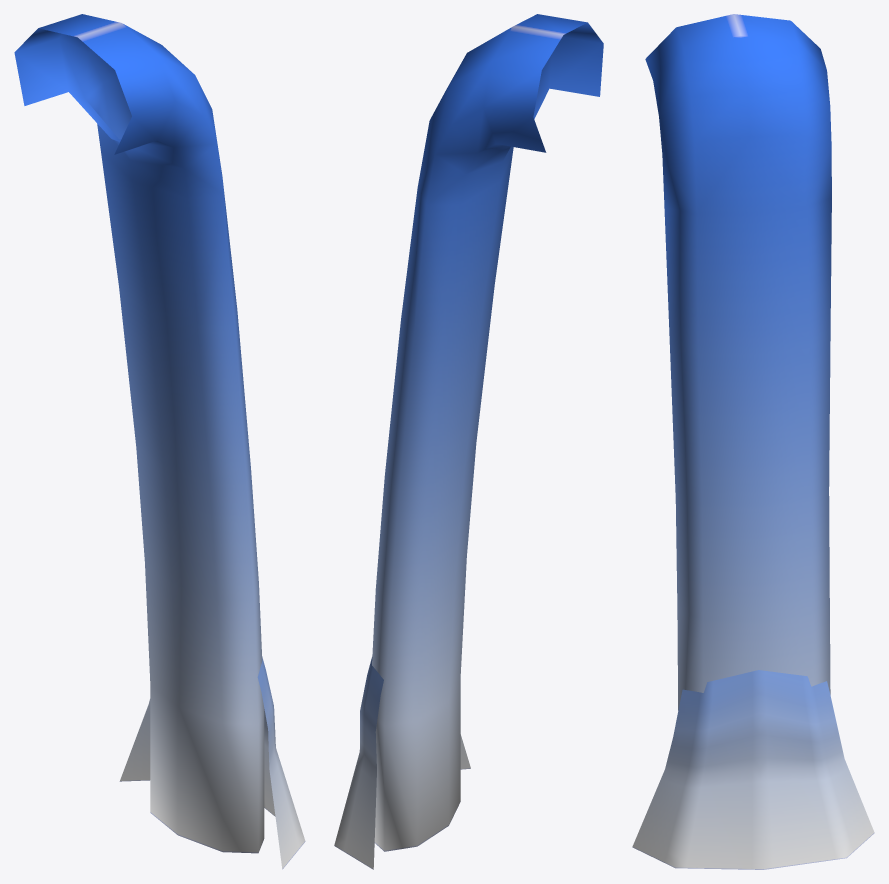
The model's file is stage_water_fall.fbx.
3 views of the same model, side by side, from view 1: azimuth 30°, elevation 25°; view 2: azimuth 150°, elevation 25°; view 3: azimuth 270°, elevation 25° (orthographic). The views are drawn at different scales.
Parts seen in each view (by area): view 1: FAE_Waterfall, FAE_Waterfall_Foam; view 2: FAE_Waterfall, FAE_Waterfall_Foam; view 3: FAE_Waterfall, FAE_Waterfall_Foam.
Part boxes in pixels (x1=…): FAE_Waterfall: x1=14, y1=14, x2=264, y2=853; FAE_Waterfall_Foam: x1=119, y1=656, x2=305, y2=869; FAE_Waterfall: x1=372, y1=14, x2=603, y2=851; FAE_Waterfall_Foam: x1=334, y1=657, x2=470, y2=869; FAE_Waterfall: x1=645, y1=14, x2=831, y2=710; FAE_Waterfall_Foam: x1=632, y1=670, x2=874, y2=869.
Bounding box in the file's own units: 1288 × 4693 × 1344.
Materials: 2 (2 with a texture image).
